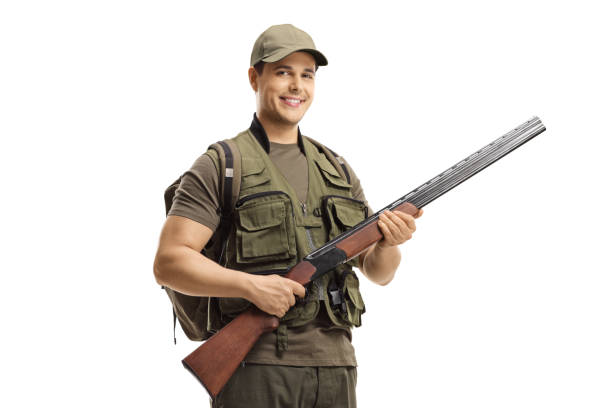rifle: (339, 114, 556, 267)
